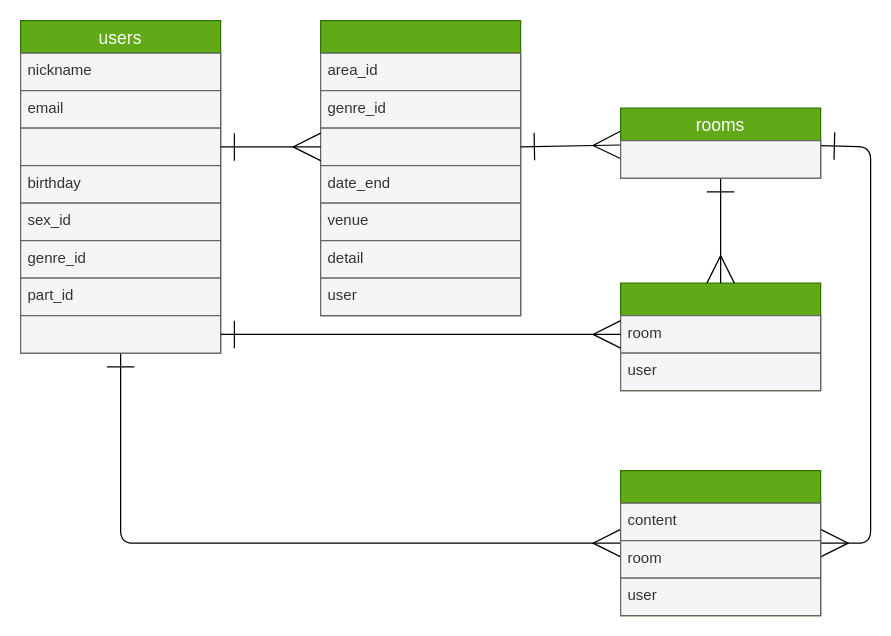
The diagram is 891 pixels wide and 636 high, and some of its shapes have lost their labels. Here are the shapes that lost their labels. From the top down, the box of each, then its label:
(19, 127, 221, 166): password
(319, 127, 521, 166): date_start
(619, 139, 821, 178): booking
(319, 19, 521, 316): bookings
(19, 314, 221, 353): introduction
(619, 282, 821, 391): room_users
(619, 469, 821, 616): messages
